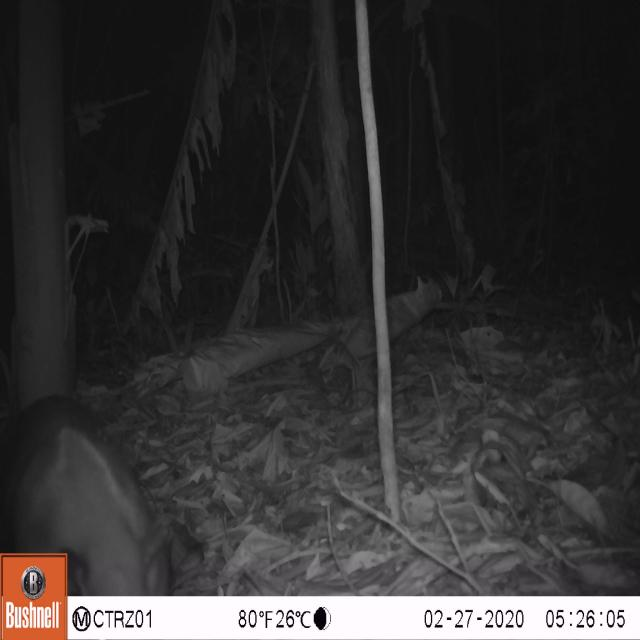Southern Tamandua: (0, 384, 174, 597)
